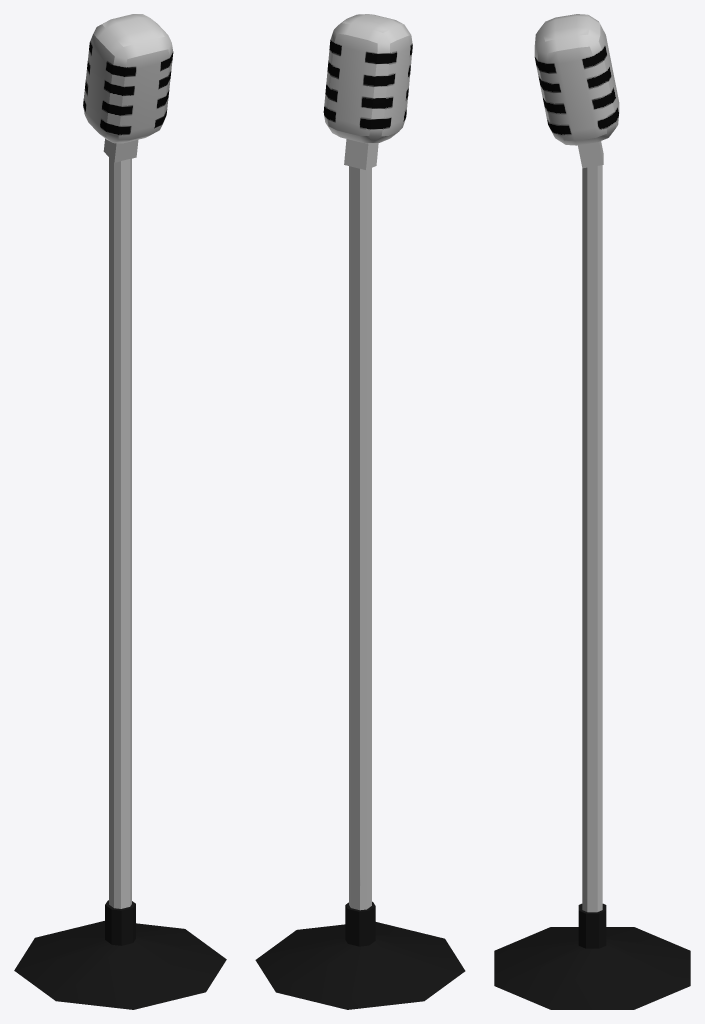
Rendered from microphone.fbx.
The picture shows the model from 3 angles, left to right: view 1: azimuth 30°, elevation 25°; view 2: azimuth 150°, elevation 25°; view 3: azimuth 270°, elevation 25°; orthographic projection.
Parts seen in each view (by area): view 1: pCube3, pCube2; view 2: pCube3, pCube2; view 3: pCube3, pCube2.
Boxes of the visible parts, box(x1,y1,x2,y2) form: pCube3: box(14, 157, 226, 1009); pCube2: box(83, 14, 173, 162); pCube3: box(255, 166, 465, 1009); pCube2: box(323, 14, 412, 169); pCube3: box(494, 165, 690, 1009); pCube2: box(534, 14, 619, 168).
Bounding box in the file's own units: 27.94 × 148 × 27.9.
2 materials, 2 textured.
